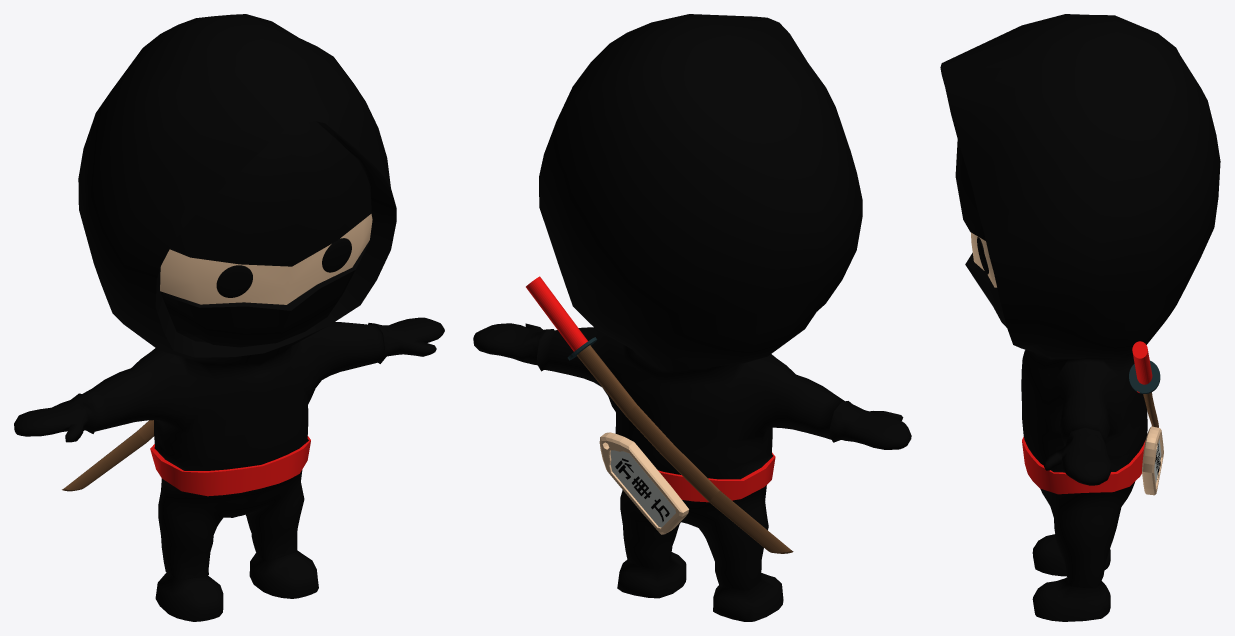
The model's file is ninjablack.gltf.
3 renders of one model, left to right at view 1: azimuth 30°, elevation 25°; view 2: azimuth 150°, elevation 25°; view 3: azimuth 270°, elevation 25°, orthographic.
Visible parts, largest first — view 1: Cube, Cylinder.020; view 2: Cube, Cylinder.020, Cube.002; view 3: Cube, Cylinder.020, Cube.002.
Part boxes in pixels (<box>): Cube: <box>14,14,444,621</box>; Cylinder.020: <box>62,420,153,491</box>; Cube: <box>473,14,911,621</box>; Cylinder.020: <box>526,276,793,553</box>; Cube.002: <box>599,432,689,534</box>; Cube: <box>940,14,1220,621</box>; Cylinder.020: <box>1129,341,1160,427</box>; Cube.002: <box>1142,426,1163,495</box>.
Bounding box in the file's own units: 4.65 × 5.88 × 2.65.
